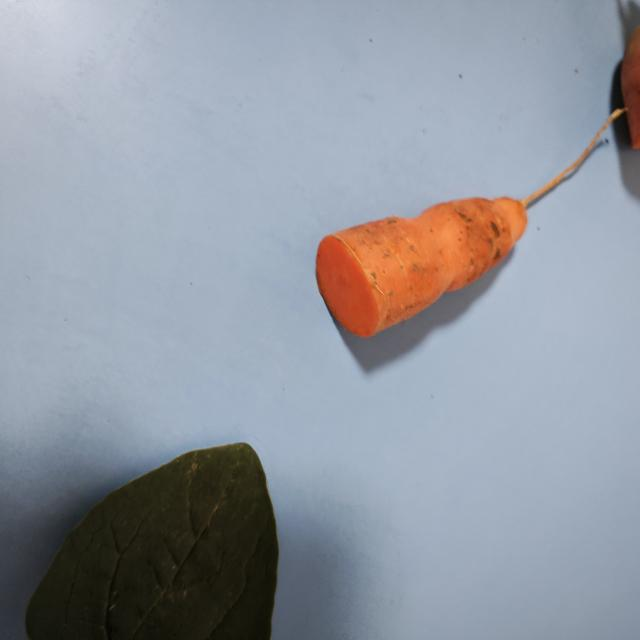-Kitchen waste - carrot-: (325, 198, 534, 323)
-Kitchen waste - vegetable roots and leaves-: (29, 446, 277, 640)
